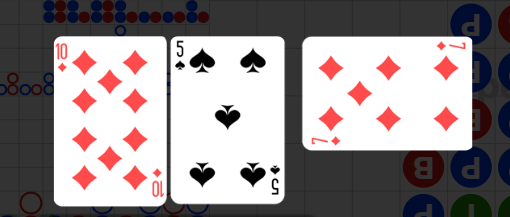10D: (151, 167, 164, 198)
5S: (269, 163, 282, 196)
7D: (435, 40, 467, 53)
